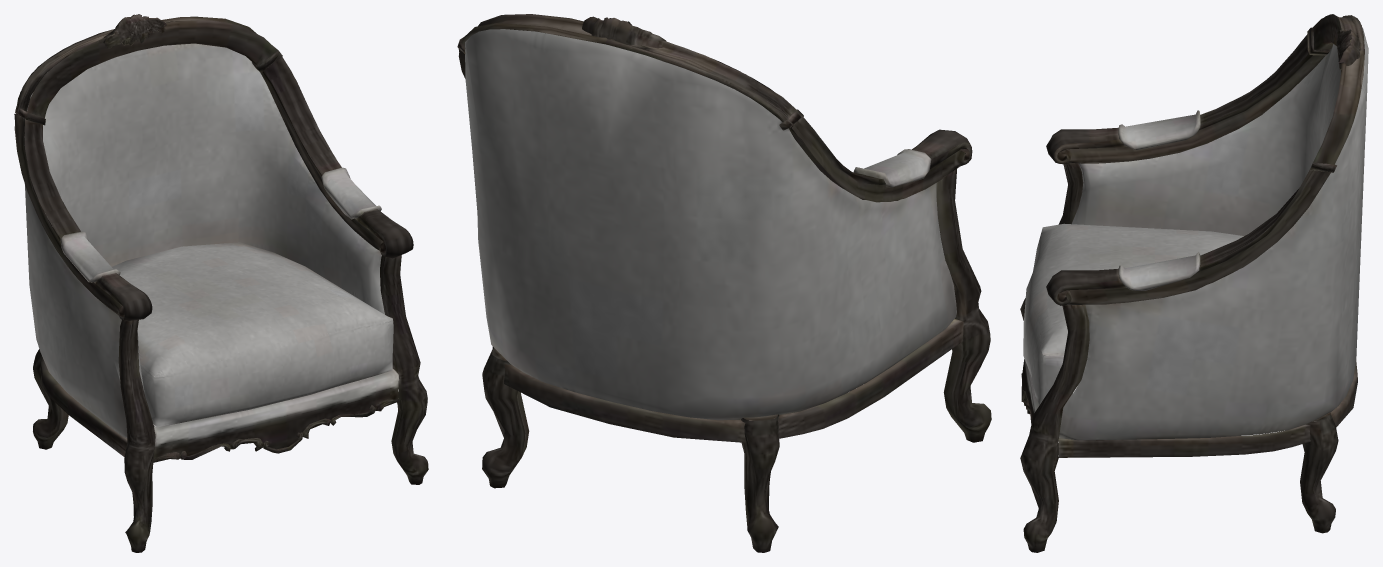
The model's file is ArmChair_01.glb.
3 renders of one model, left to right at view 1: azimuth 30°, elevation 25°; view 2: azimuth 150°, elevation 25°; view 3: azimuth 270°, elevation 25°, orthographic. The views are drawn at different scales.
Parts seen in each view (by area): view 1: ArmChair_01; view 2: ArmChair_01; view 3: ArmChair_01.
Boxes of the visible parts, x1,y1,x2,y2 form: ArmChair_01: [14, 14, 428, 552]; ArmChair_01: [457, 14, 991, 552]; ArmChair_01: [1020, 14, 1368, 552].
Bounding box in the file's own units: 0.8498 × 1.07 × 0.7648.
Materials: 1 (1 with a texture image).
